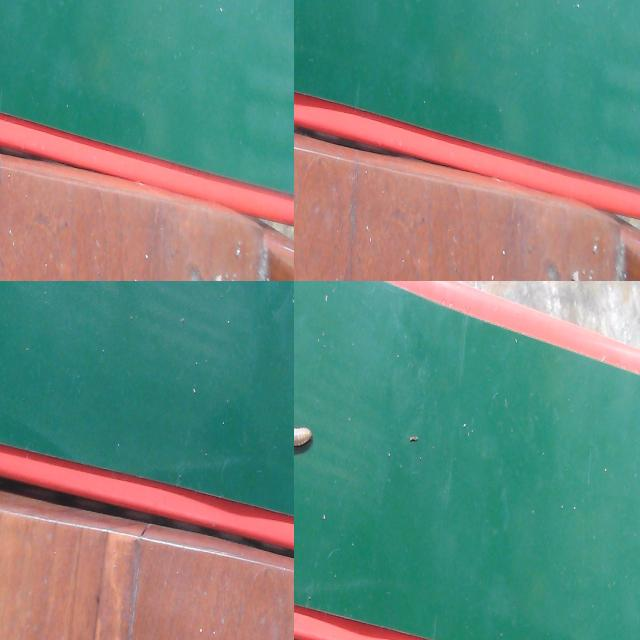Maggot: (294, 426, 314, 455)
